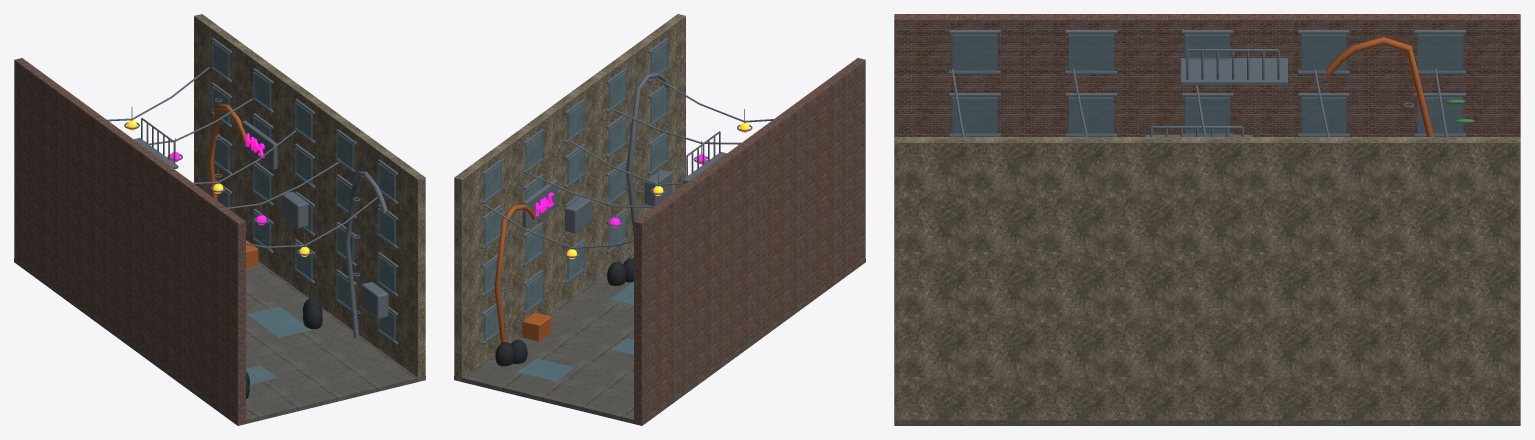
Rendered from urban_neon_alley.glb.
3 views of the same model, side by side, from view 1: azimuth 30°, elevation 25°; view 2: azimuth 150°, elevation 25°; view 3: azimuth 270°, elevation 25° (orthographic). The views are drawn at different scales.
Visible parts, largest first — view 1: Alley_LeftBuilding, Alley_RightBuilding, Alley_Street, RefinedSurface_Alley_WetGlass, RefinedSurface_Alley_Steel, RefinedSurface_Alley_Rust, RefinedSurface_Alley_TrashBag, RefinedSurface_Alley_NeonMagenta; view 2: Alley_LeftBuilding, Alley_RightBuilding, Alley_Street, RefinedSurface_Alley_WetGlass, RefinedSurface_Alley_Steel, RefinedSurface_Alley_Rust, RefinedSurface_Alley_TrashBag; view 3: Alley_RightBuilding, Alley_LeftBuilding, RefinedSurface_Alley_WetGlass, RefinedSurface_Alley_Steel, Alley_Street, RefinedSurface_Alley_Rust.
Part boxes in pixels (x1,y1,x2,y2): Alley_LeftBuilding: (14,58,245,425); Alley_RightBuilding: (194,14,425,381); Alley_Street: (14,258,425,425); RefinedSurface_Alley_WetGlass: (211,41,395,384); RefinedSurface_Alley_Steel: (107,38,398,344); RefinedSurface_Alley_Rust: (208,103,381,288); RefinedSurface_Alley_TrashBag: (246,298,322,398); RefinedSurface_Alley_NeonMagenta: (170,133,266,225); Alley_LeftBuilding: (634,58,865,425); Alley_RightBuilding: (454,14,685,380); Alley_Street: (454,252,865,425); RefinedSurface_Alley_WetGlass: (484,41,668,381); RefinedSurface_Alley_Steel: (481,38,773,344); RefinedSurface_Alley_Rust: (494,176,651,343); RefinedSurface_Alley_TrashBag: (495,258,633,366); Alley_RightBuilding: (894,137,1520,425); Alley_LeftBuilding: (894,14,1520,136); RefinedSurface_Alley_WetGlass: (952,34,1462,134); RefinedSurface_Alley_Steel: (949,30,1465,136); Alley_Street: (894,420,1520,425); RefinedSurface_Alley_Rust: (1325,37,1433,136).
Bounding box in the file's own units: 6.8 × 7.06 × 14.
Materials: 11 (3 with a texture image).
